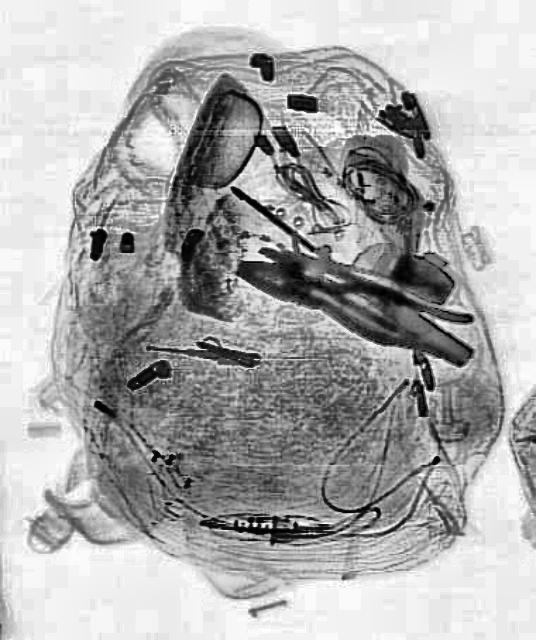Pliers: (228, 238, 479, 370)
